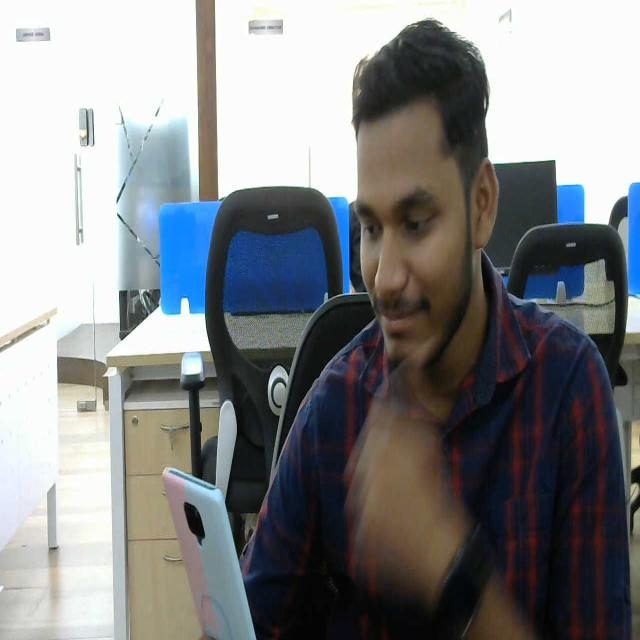phone: (160, 460, 258, 640)
